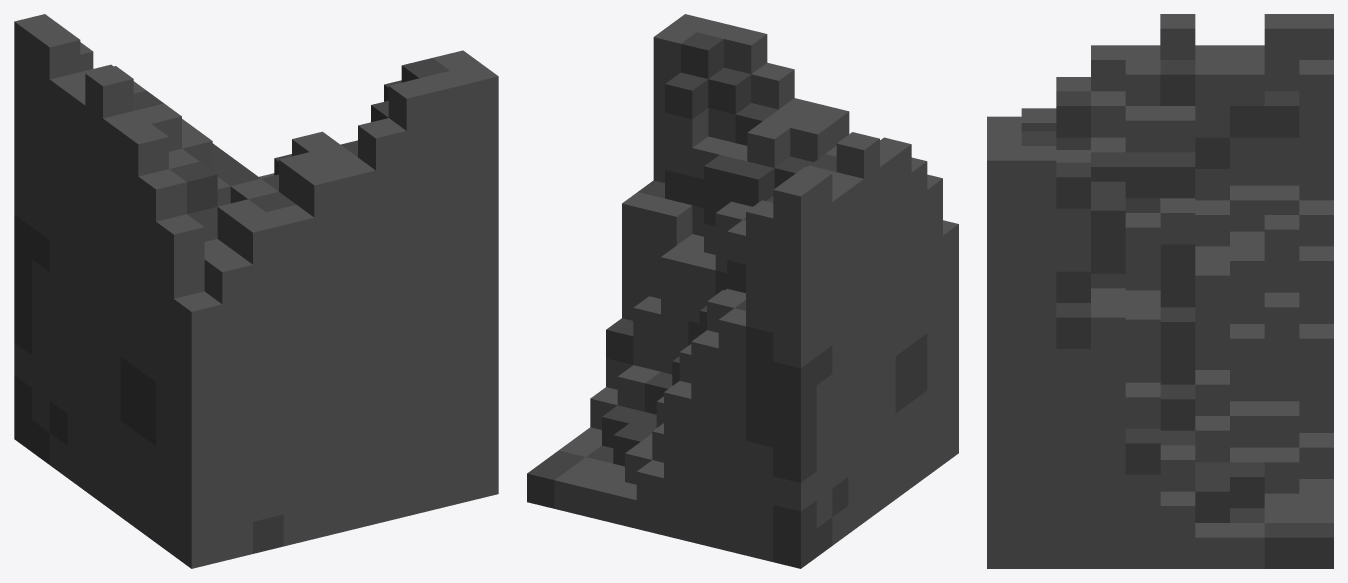
File: Koisches-Eck.obj
The picture shows the model from 3 angles, left to right: view 1: azimuth 30°, elevation 25°; view 2: azimuth 150°, elevation 25°; view 3: azimuth 270°, elevation 25°; orthographic projection. The views are drawn at different scales.
Size of the model in its own units: 1 by 1.3 by 1.
Materials: 1 (1 with a texture image).
